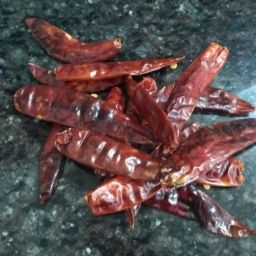Chiptole pepper: (9, 78, 171, 192), (45, 128, 196, 224), (18, 14, 188, 91), (179, 104, 256, 254), (178, 25, 242, 172)
